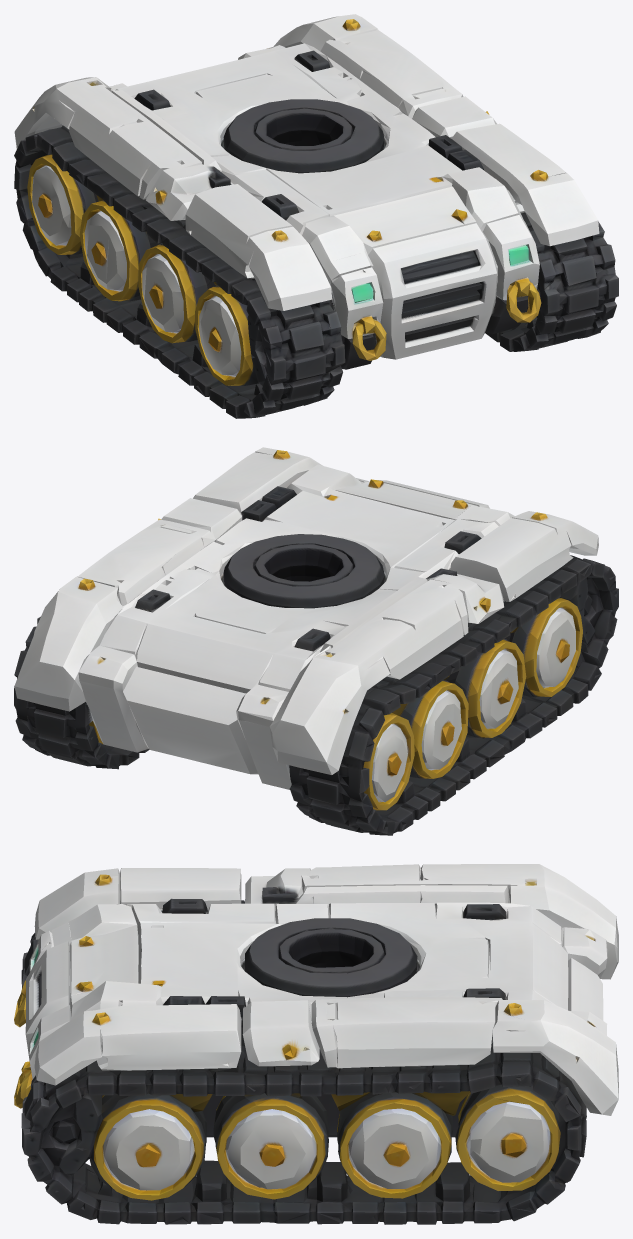
File: heavy_tracks.glb
The picture shows the model from 3 angles, top to bottom: view 1: azimuth 30°, elevation 25°; view 2: azimuth 150°, elevation 25°; view 3: azimuth 270°, elevation 25°; orthographic projection. The views are drawn at different scales.
Visible parts, largest first — view 1: model; view 2: model; view 3: model.
Part boxes in pixels (x1,y1,x2,y2): model: (14,14,618,418); model: (14,447,618,835); model: (14,864,618,1224).
Bounding box in the file's own units: 1.38 × 0.6923 × 1.89.
Materials: 1 (1 with a texture image).
